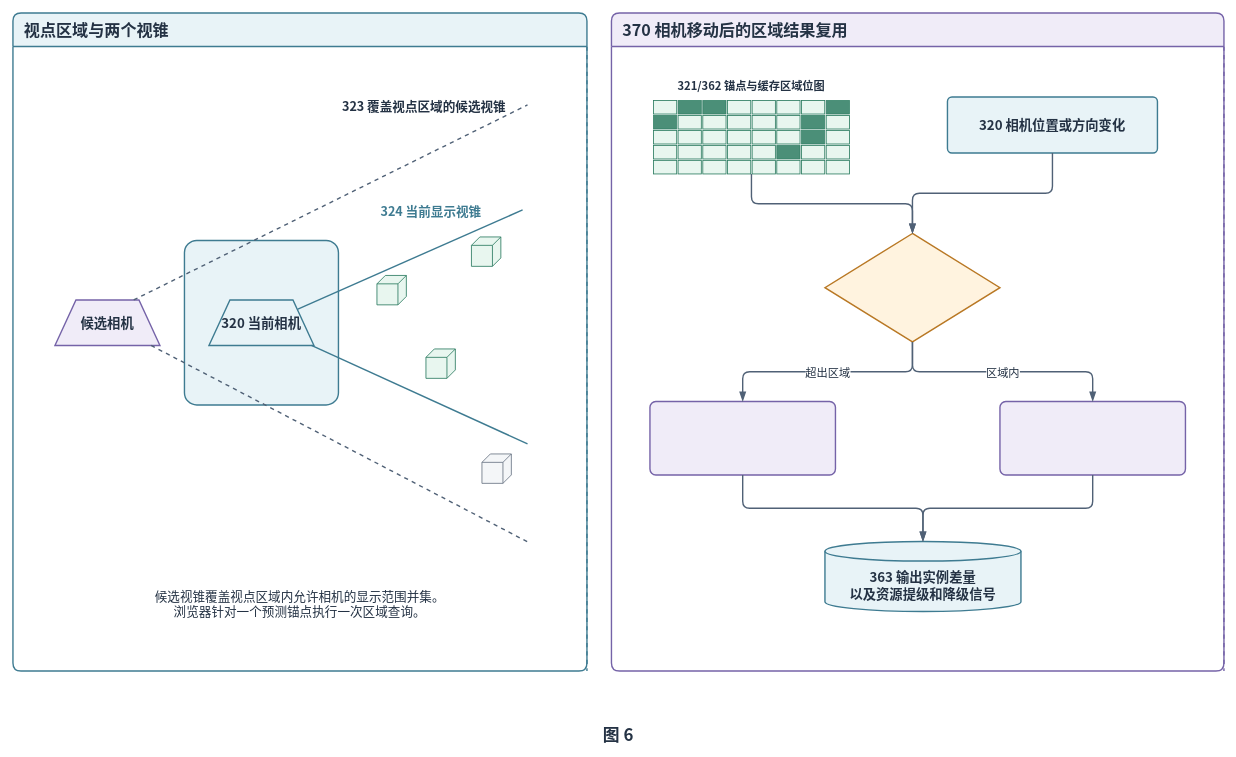
Image size: 1236x757. Some labels were removed from this diagram. Here are the shapes that lost their labels. From the top down, the centre of each, then its label:
At (x=912, y=287): "相机参数仍在 视点区域内？".
At (x=742, y=437): "330 建立新预测锚点 执行完整区域查询".
At (x=1092, y=437): "334 使用新的当前显示视锥 筛选缓存区域位图".
